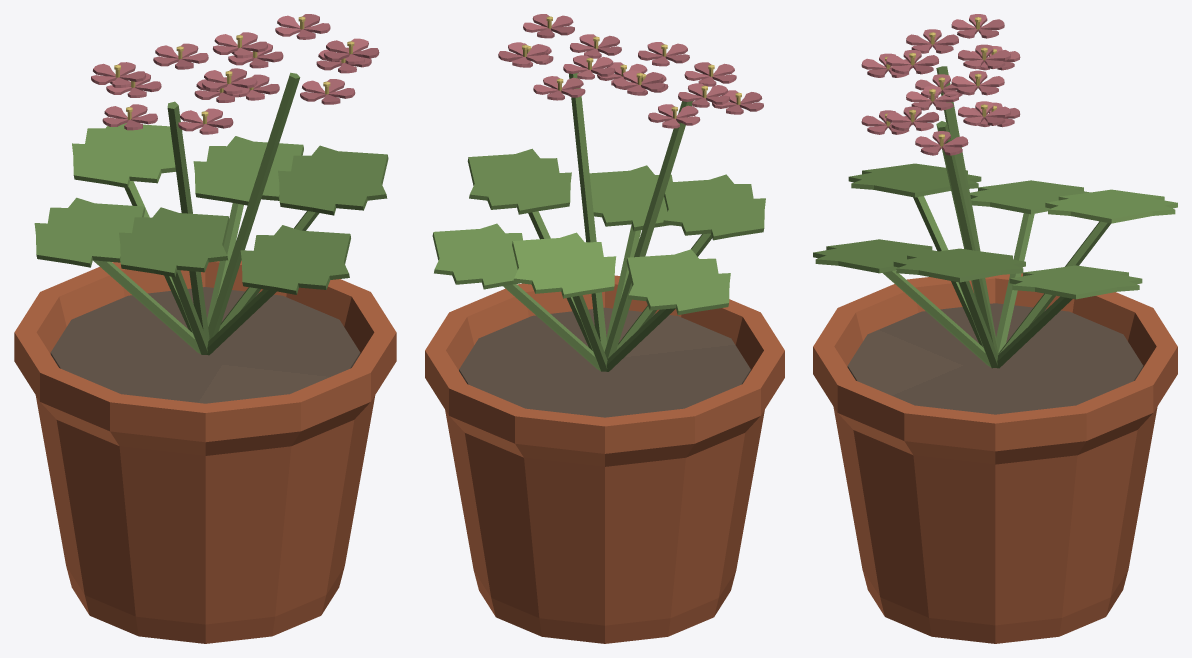
Rendered from pelargonium.glb.
3 renders of one model, left to right at view 1: azimuth 30°, elevation 25°; view 2: azimuth 150°, elevation 25°; view 3: azimuth 270°, elevation 25°, orthographic. The views are drawn at different scales.
Visible parts, largest first — view 1: pelargonium/review-terra-vessel, pelargonium/review-rooted-soil, pelargonium/leaf-004, pelargonium/leaf-012, pelargonium/leaf-002, pelargonium/leaf-008, pelargonium/leaf-010, pelargonium/leaf-006, pelargonium/petiole-063, pelargonium/petiole-013, pelargonium/petiole-009, pelargonium/petiole-005 (+4 smaller); view 2: pelargonium/review-terra-vessel, pelargonium/review-rooted-soil, pelargonium/leaf-010, pelargonium/leaf-004, pelargonium/leaf-008, pelargonium/leaf-012, pelargonium/leaf-006, pelargonium/leaf-002, pelargonium/petiole-013, pelargonium/petiole-063, pelargonium/petiole-005, pelargonium/petiole-009 (+4 smaller); view 3: pelargonium/review-terra-vessel, pelargonium/review-rooted-soil, pelargonium/leaf-006, pelargonium/leaf-008, pelargonium/leaf-004, pelargonium/leaf-012, pelargonium/leaf-002, pelargonium/leaf-010, pelargonium/petiole-063, pelargonium/petiole-001, pelargonium/petiole-013, pelargonium/petiole-009 (+4 smaller).
Part boxes in pixels (<box>): pelargonium/review-terra-vessel: <box>14,260,396,643</box>; pelargonium/review-rooted-soil: <box>50,287,360,403</box>; pelargonium/leaf-004: <box>278,145,388,215</box>; pelargonium/leaf-012: <box>119,207,229,277</box>; pelargonium/leaf-002: <box>240,225,350,294</box>; pelargonium/leaf-008: <box>72,123,182,188</box>; pelargonium/leaf-010: <box>34,197,144,267</box>; pelargonium/leaf-006: <box>193,136,303,205</box>; pelargonium/petiole-063: <box>208,72,300,340</box>; pelargonium/petiole-013: <box>167,101,209,341</box>; pelargonium/petiole-009: <box>93,260,200,353</box>; pelargonium/petiole-005: <box>207,203,243,326</box>; pelargonium/review-terra-vessel: <box>425,275,784,643</box>; pelargonium/review-rooted-soil: <box>459,307,750,417</box>; pelargonium/leaf-010: <box>626,249,730,315</box>; pelargonium/leaf-004: <box>467,148,571,214</box>; pelargonium/leaf-008: <box>512,232,616,298</box>; pelargonium/leaf-012: <box>663,174,765,240</box>; pelargonium/leaf-006: <box>432,223,522,289</box>; pelargonium/leaf-002: <box>589,165,672,231</box>; pelargonium/petiole-013: <box>604,101,692,358</box>; pelargonium/petiole-063: <box>568,73,606,351</box>; pelargonium/petiole-005: <box>503,284,600,370</box>; pelargonium/petiole-009: <box>606,308,675,371</box>; pelargonium/review-terra-vessel: <box>813,273,1177,643</box>; pelargonium/review-rooted-soil: <box>847,303,1143,414</box>; pelargonium/leaf-006: <box>1009,265,1142,299</box>; pelargonium/leaf-008: <box>1045,189,1177,223</box>; pelargonium/leaf-004: <box>893,248,1025,282</box>; pelargonium/leaf-012: <box>848,163,981,197</box>; pelargonium/leaf-002: <box>813,239,937,273</box>; pelargonium/leaf-010: <box>970,180,1090,214</box>; pelargonium/petiole-063: <box>936,121,998,355</box>; pelargonium/petiole-001: <box>882,270,991,367</box>; pelargonium/petiole-013: <box>936,66,998,351</box>; pelargonium/petiole-009: <box>996,213,1034,352</box>.
Bounding box in the file's own units: 0.19 × 0.3033 × 0.19.
Materials: 5 (5 with a texture image).
